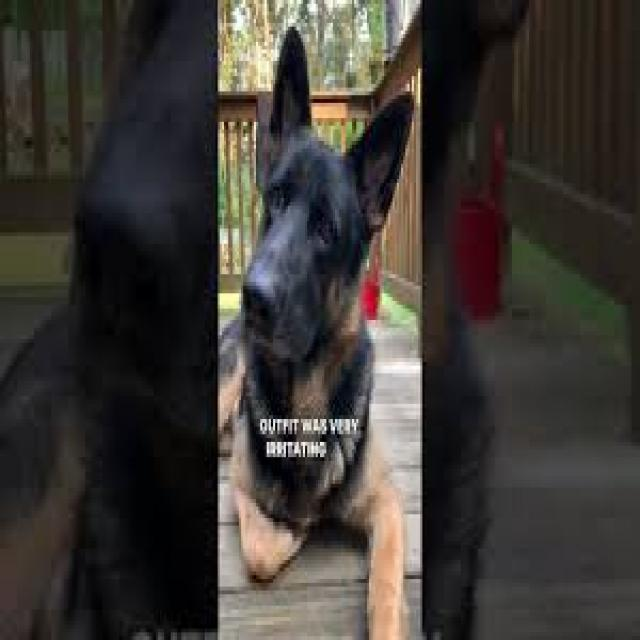Dog: (221, 25, 420, 408)
